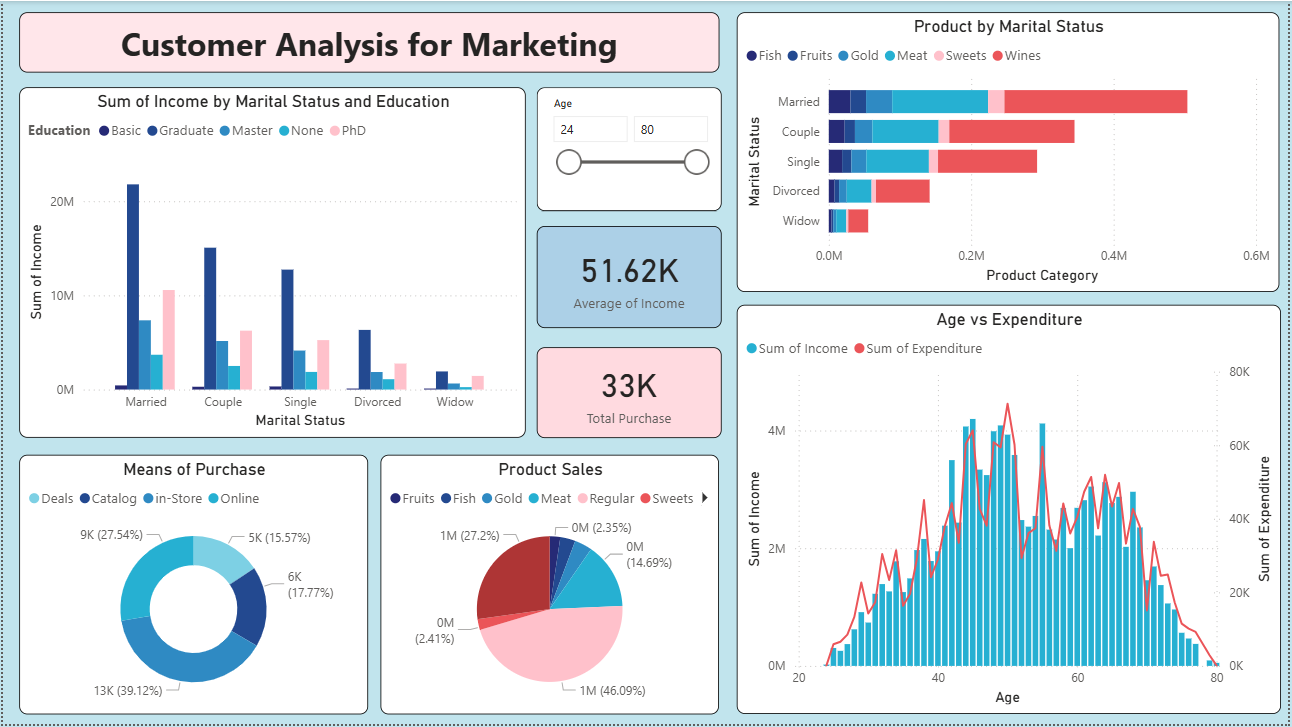

The page's visual inventory and layout, read from the dashboard file:
{"tool":"powerbi","page":{"name":"Page 1","canvas":[1280,720],"ordinal":0},"visuals":[{"type":"clusteredColumnChart","title":"Sum of Income by Marital Status and Education","fields":{"Category":["ifood_df.Marital Status"],"Series":["ifood_df.Education status"],"Y":["Sum(ifood_df.Income)"]},"box":[15.7,85.7,504.3,348.6],"z":0},{"type":"barChart","title":"Product by Marital Status","fields":{"Y":["Sum(ifood_df.Fish)","Sum(ifood_df.Fruits)","Sum(ifood_df.Gold Products)","Sum(ifood_df.Meat)","Sum(ifood_df.Sweets)","Sum(ifood_df.Wines)"],"Category":["ifood_df.Marital Status"]},"box":[730,11.4,540,278.6],"z":1000},{"type":"pieChart","title":"Product Sales","fields":{"Y":["Sum(ifood_df.Fruits)","Sum(ifood_df.Fish)","Sum(ifood_df.Gold Products)","Sum(ifood_df.Meat)","Sum(ifood_df.Regular products)","Sum(ifood_df.Sweets)","Sum(ifood_df.Wines)"]},"box":[375.7,451.4,337.1,258.6],"z":2000},{"type":"donutChart","title":"Means of Purchase","fields":{"Y":["Sum(ifood_df.Deals)","Sum(ifood_df.Catalog)","Sum(ifood_df.Store)","Sum(ifood_df.Web)"]},"box":[15.7,451.4,347.1,258.6],"z":3000},{"type":"lineClusteredColumnComboChart","title":"Age vs Expenditure","fields":{"Category":["ifood_df.Age"],"Y":["Sum(ifood_df.Income)"],"Y2":["Sum(ifood_df.Expenditure)"]},"box":[730,302.9,541.4,407.1],"z":4000},{"type":"slicer","fields":{"Values":["ifood_df.Age"]},"box":[531.4,85.7,184.3,122.9],"z":5000},{"type":"textbox","box":[15.7,11.4,697.1,60],"z":6000},{"type":"card","fields":{"Values":["Avg(ifood_df.Income)"]},"box":[531.4,224.3,184.3,101.4],"z":7000},{"type":"card","fields":{"Values":["ifood_df.Total Purchase"]},"box":[531.4,344.3,184.3,90],"z":8000}]}

Visuals, with their boxes in screenshot pixels (x1, y1, x2, y2), scaled from the page's 1280x720 canvas onto the 1292x727 screenshot:
"Sum of Income by Marital Status and Education" clusteredColumnChart: [16,87,525,439]
"Product by Marital Status" barChart: [737,12,1282,293]
"Product Sales" pieChart: [379,456,719,717]
"Means of Purchase" donutChart: [16,456,366,717]
"Age vs Expenditure" lineClusteredColumnComboChart: [737,306,1283,717]
slicer - ifood_df.Age: [536,87,722,211]
textbox: [16,12,719,72]
card - Avg(ifood_df.Income): [536,226,722,329]
card - ifood_df.Total Purchase: [536,348,722,439]
